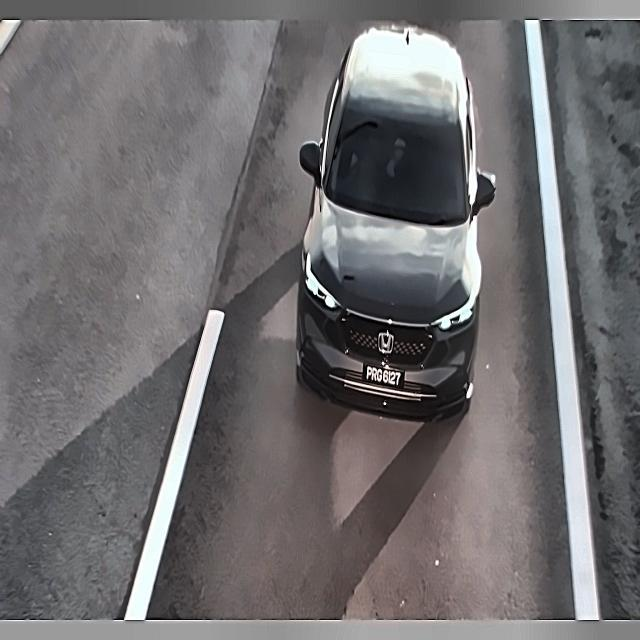car: (357, 356, 409, 399)
